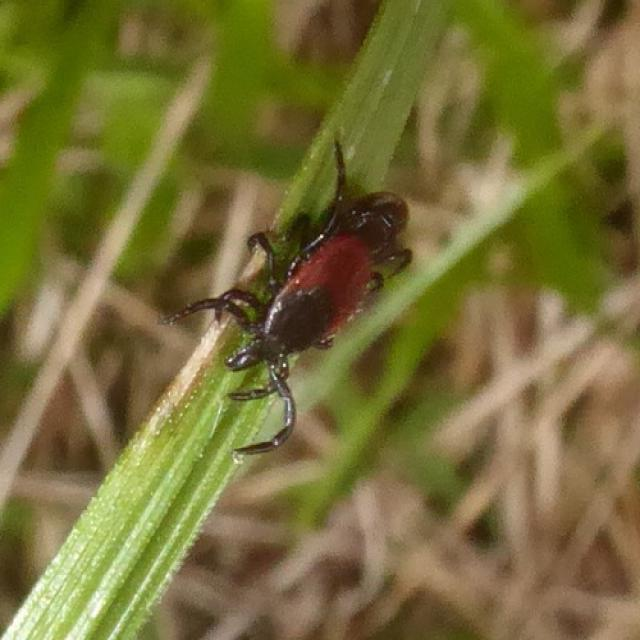Ixodes Ricinus-F: (163, 139, 381, 452)
